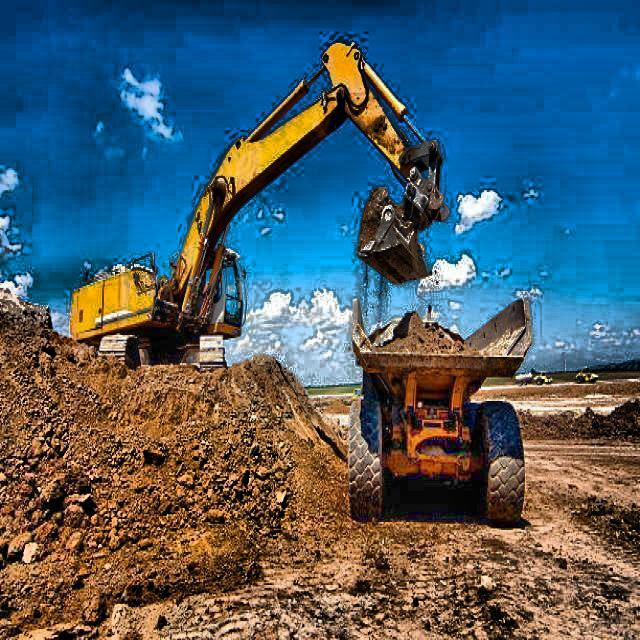excavator: (68, 43, 449, 370)
